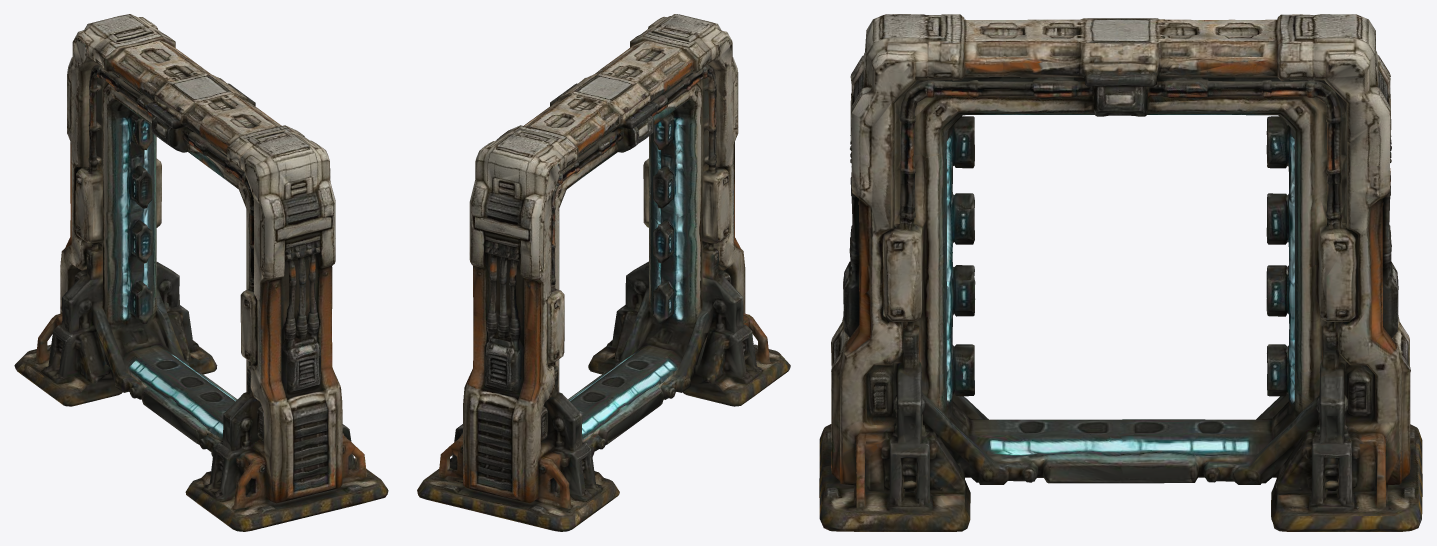
The model's file is scanner_arch.glb.
3 renders of one model, left to right at view 1: azimuth 30°, elevation 25°; view 2: azimuth 150°, elevation 25°; view 3: azimuth 270°, elevation 25°, orthographic. The views are drawn at different scales.
Visible parts, largest first — view 1: tripo_node_b33e4879-c1b6-43ed-8ab4-9025fca95f38; view 2: tripo_node_b33e4879-c1b6-43ed-8ab4-9025fca95f38; view 3: tripo_node_b33e4879-c1b6-43ed-8ab4-9025fca95f38.
Boxes of the visible parts, bbox=[...] form: tripo_node_b33e4879-c1b6-43ed-8ab4-9025fca95f38: bbox=[14, 14, 388, 531]; tripo_node_b33e4879-c1b6-43ed-8ab4-9025fca95f38: bbox=[417, 14, 790, 531]; tripo_node_b33e4879-c1b6-43ed-8ab4-9025fca95f38: bbox=[819, 14, 1422, 531].
Size of the model in its own units: 0.3932 by 0.8356 by 0.9997.
1 material, 1 textured.
